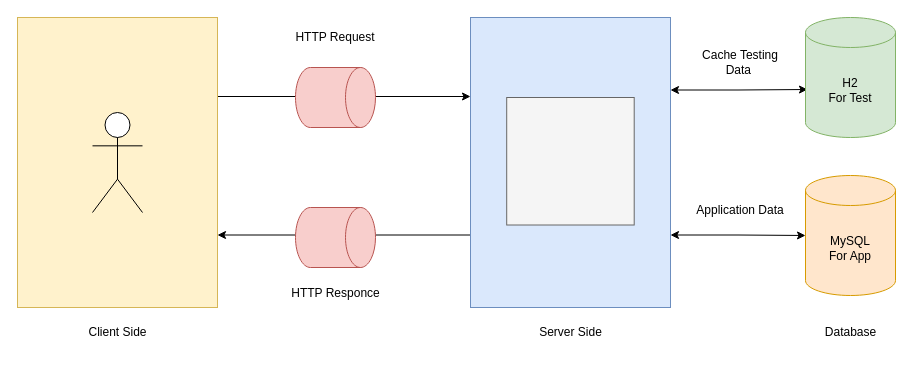
Some shapes in this 915 by 365 pixel diagram are drawn without their labels. The centre of each missing label's shape, as x and y in pixels:
"Clients" belongs at (117,162).
"Spring Boot" belongs at (570,160).
